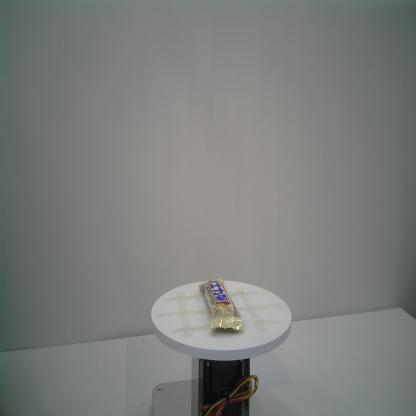Chocolate: (198, 276, 242, 334)
